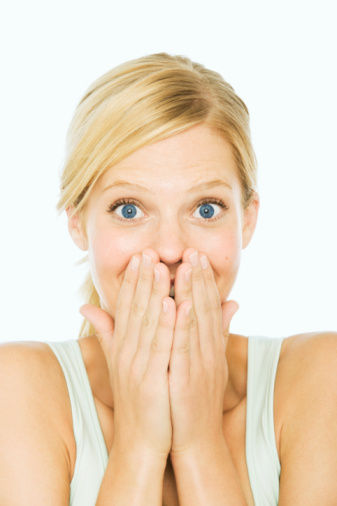face: (93, 120, 241, 373)
